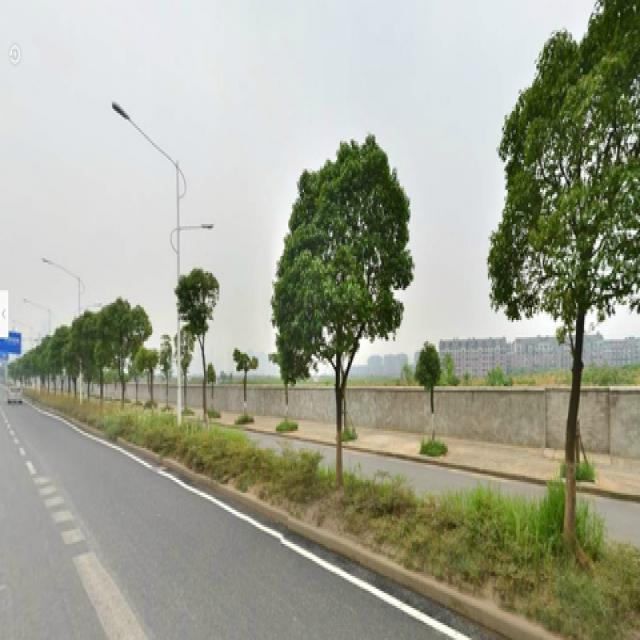cinn: (519, 47, 620, 589), (291, 175, 388, 482), (184, 273, 224, 414)
